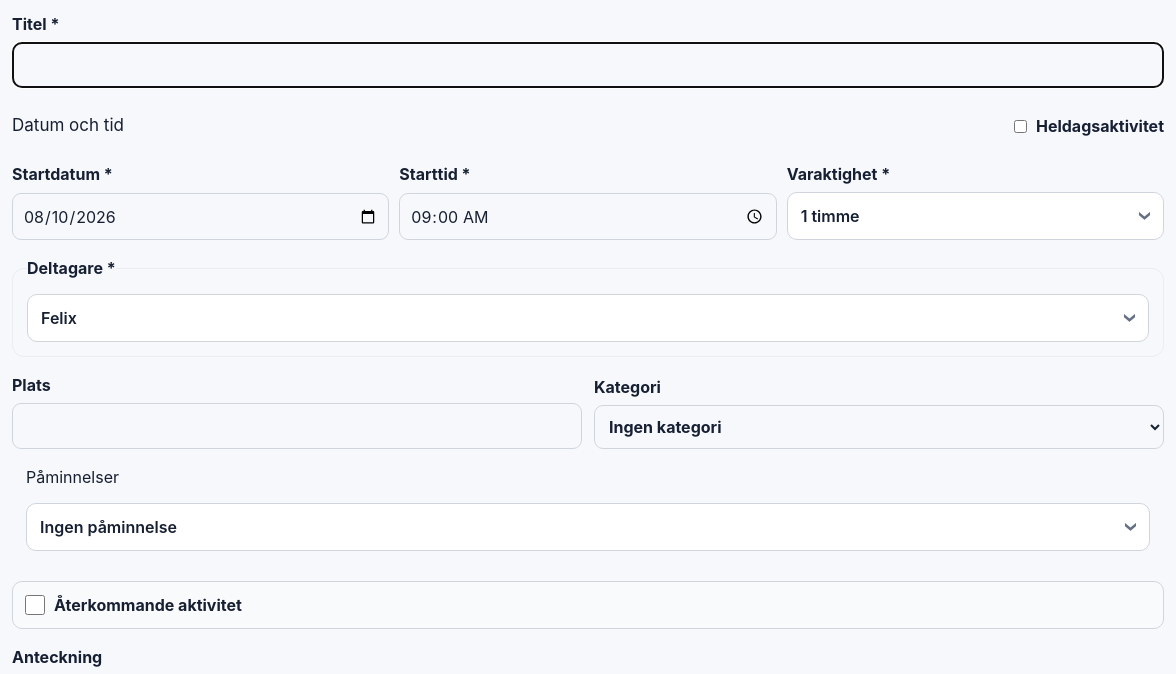
CalendarEventForm › döljer starttid och varaktighet för heldag men behåller heldagsslut
This screenshot has width=1176, height=674.
Click the checkbox labelled "Heldagsaktivitet".
click(1020, 126)  # box [1014,120,1027,132]
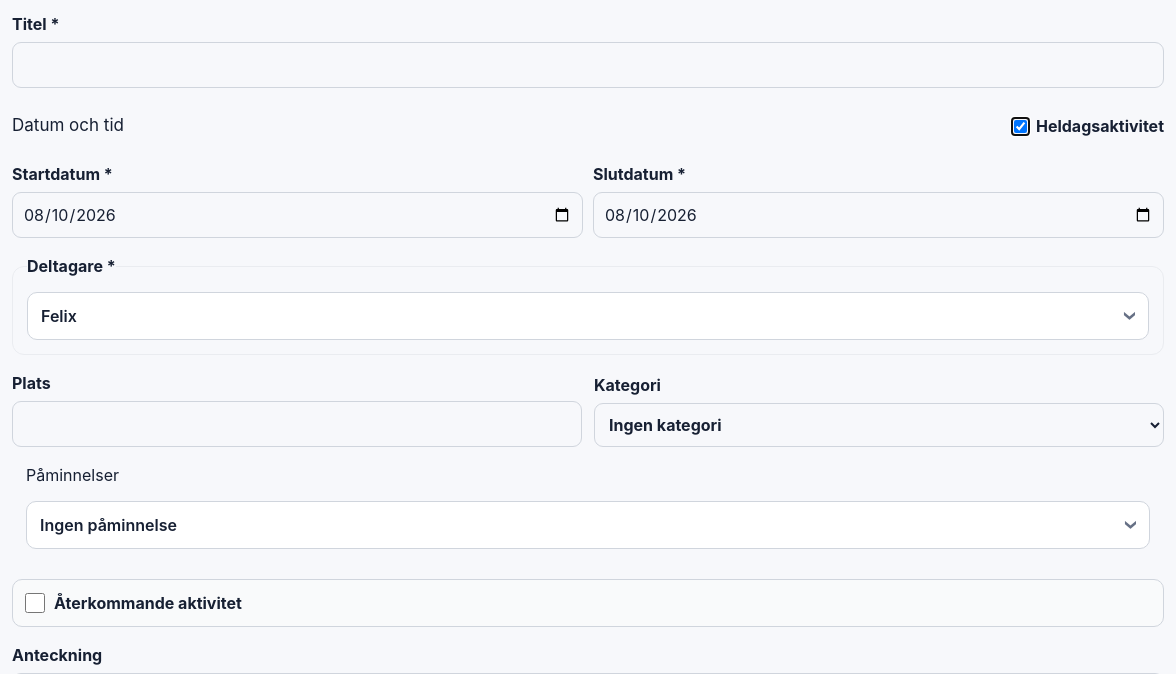
Check: the label labelled "Starttid *" is gone
Check: the label labelled "Varaktighet *" is gone
Check: the date field labelled "Slutdatum *" holds "2026-08-10", box [593,192,1164,238]
